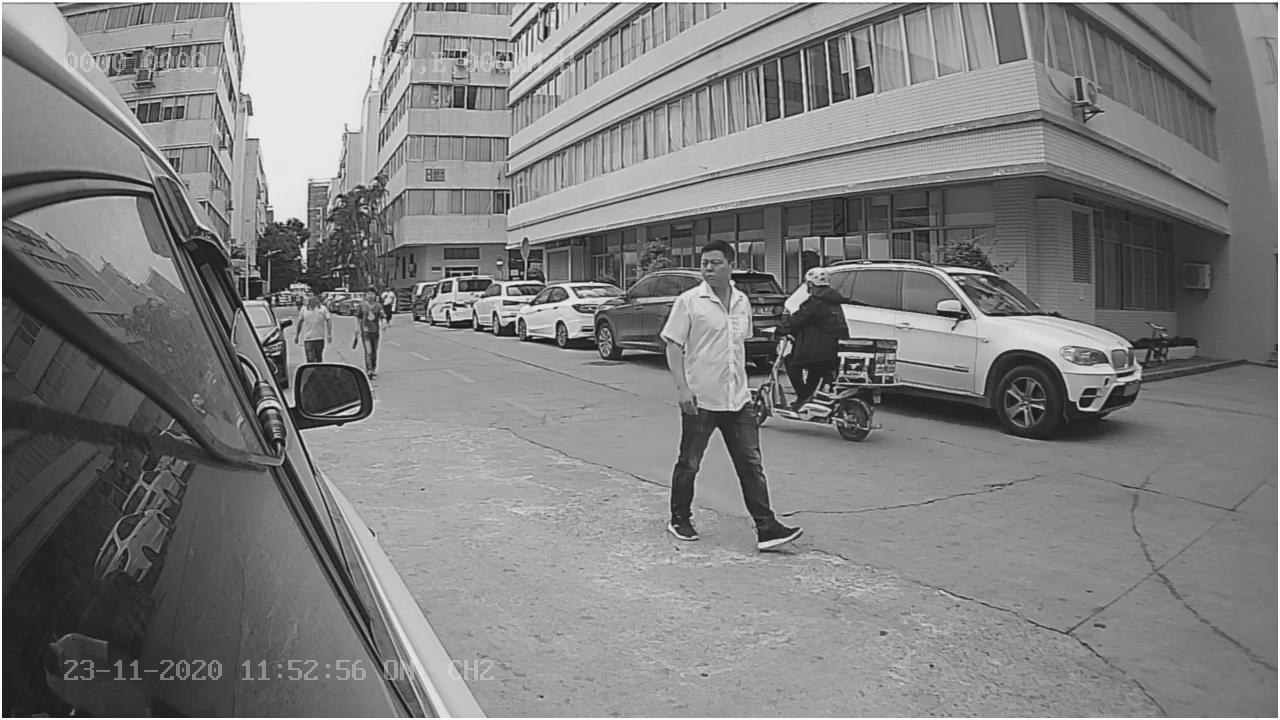person: (660, 236, 770, 579)
